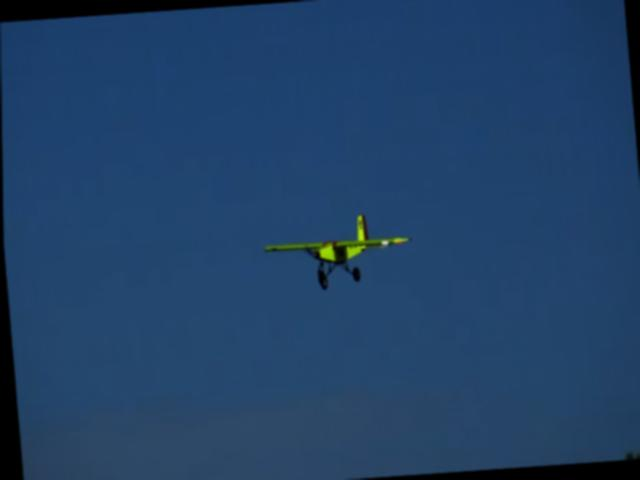plane: (260, 212, 414, 294)
